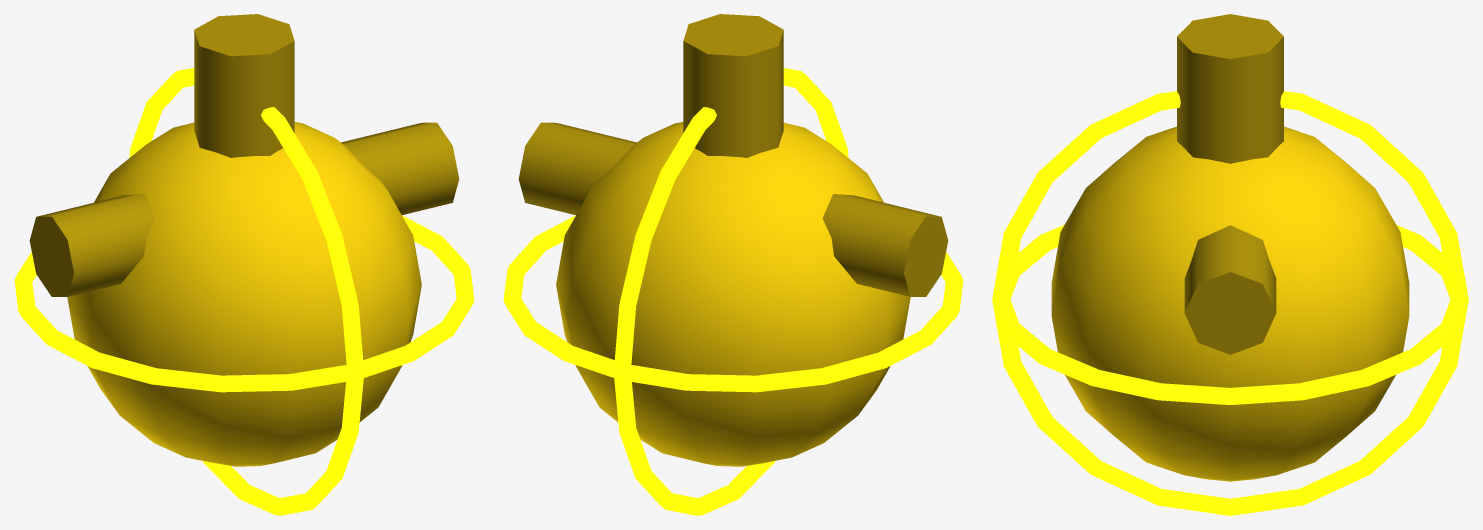
The model's file is corazon_primigenio.glb.
The picture shows the model from 3 angles, left to right: view 1: azimuth 30°, elevation 25°; view 2: azimuth 150°, elevation 25°; view 3: azimuth 270°, elevation 25°; orthographic projection. The views are drawn at different scales.
Parts seen in each view (by area): view 1: Body, Detail, Glow; view 2: Body, Detail, Glow; view 3: Body, Glow, Detail.
Boxes of the visible parts, x1,y1,x2,y2 form: Body: [67, 122, 421, 466]; Detail: [29, 14, 459, 296]; Glow: [14, 68, 474, 515]; Body: [556, 122, 910, 466]; Detail: [518, 14, 948, 296]; Glow: [503, 68, 963, 515]; Body: [1051, 126, 1409, 481]; Glow: [992, 91, 1468, 515]; Detail: [1177, 14, 1283, 354].
Bounding box in the file's own units: 0.312 × 0.346 × 0.312.
